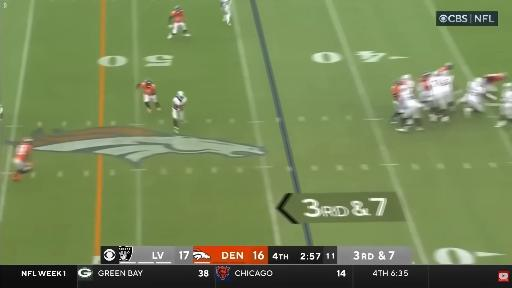Helmet: (176, 91, 185, 101), (502, 82, 512, 91), (445, 63, 453, 70), (22, 138, 33, 143), (422, 72, 431, 78), (401, 75, 411, 80), (474, 78, 484, 83), (144, 79, 152, 85), (431, 71, 439, 76), (394, 80, 402, 85), (177, 91, 184, 96), (175, 6, 181, 10)
Jersey: (430, 76, 453, 93), (467, 82, 486, 102), (15, 144, 32, 162), (399, 85, 414, 101), (483, 74, 505, 84), (173, 97, 186, 110), (418, 78, 431, 91), (171, 10, 184, 23), (141, 83, 155, 95), (502, 91, 511, 105), (391, 86, 399, 100), (437, 67, 450, 75), (403, 80, 414, 88), (221, 0, 231, 7)
Player: (396, 83, 424, 132), (429, 72, 453, 121), (463, 78, 486, 116), (417, 72, 435, 120), (136, 79, 161, 113), (13, 138, 33, 180), (495, 83, 511, 127), (168, 6, 190, 38), (172, 91, 187, 133), (390, 80, 402, 123), (483, 73, 507, 91), (220, 0, 231, 25), (437, 63, 453, 75), (401, 75, 414, 89)
